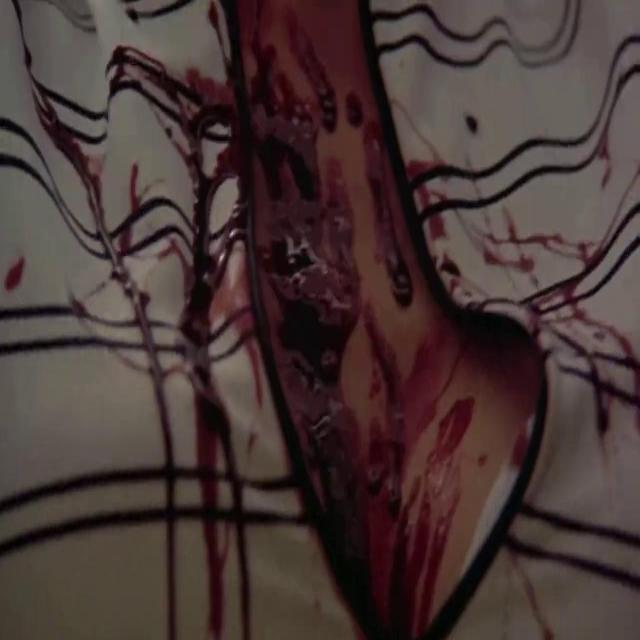flood: (262, 87, 534, 637), (187, 89, 260, 640)
